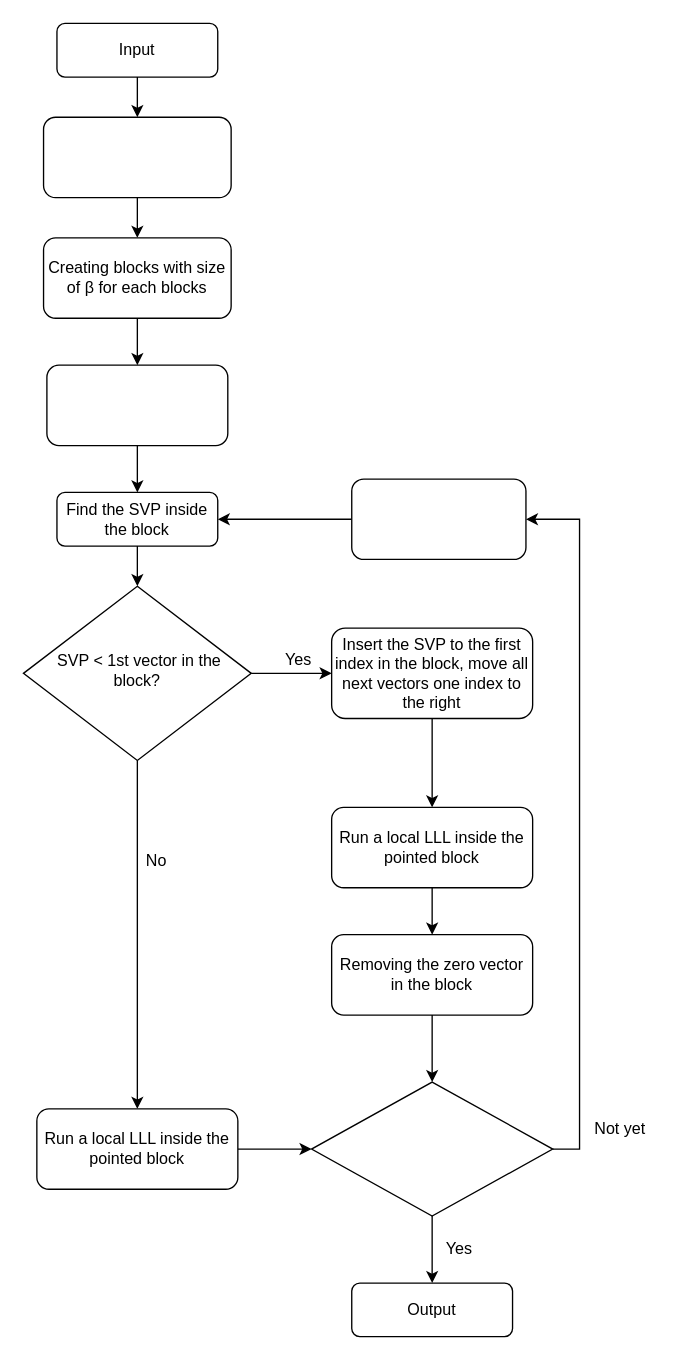
Some shapes in this 683 by 1360 pixel diagram are drawn without their labels. Each missing label, with the centre of its shape:
All blocks have been examined?: (x=431, y=1148)
Moving the pointer to the first block: (x=137, y=405)
Moving the pointer to the next block: (x=438, y=518)
Preprocessing with LLL for the entire basis: (x=136, y=157)
